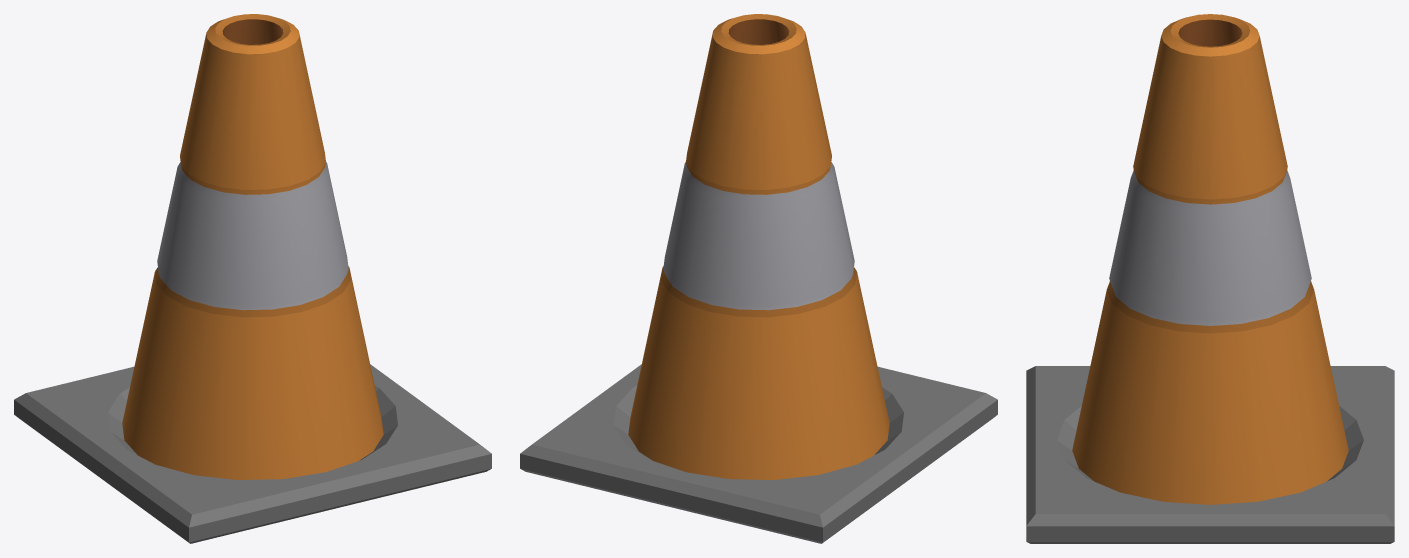
Rendered from Traffic_cone.fbx.
The picture shows the model from 3 angles, left to right: view 1: azimuth 30°, elevation 25°; view 2: azimuth 150°, elevation 25°; view 3: azimuth 270°, elevation 25°; orthographic projection. The views are drawn at different scales.
Visible parts, largest first — view 1: trafficCone; view 2: trafficCone; view 3: trafficCone.
Boxes of the visible parts, <box> form: trafficCone: <box>14,14,491,543</box>; trafficCone: <box>520,14,997,543</box>; trafficCone: <box>1026,14,1394,543</box>.
Bounding box in the file's own units: 0.6177 × 0.8092 × 0.6177.
